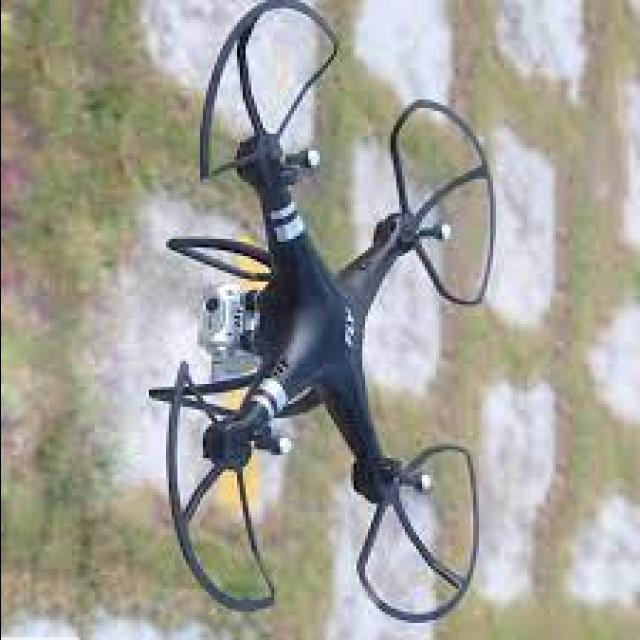drone: (134, 0, 512, 625)
